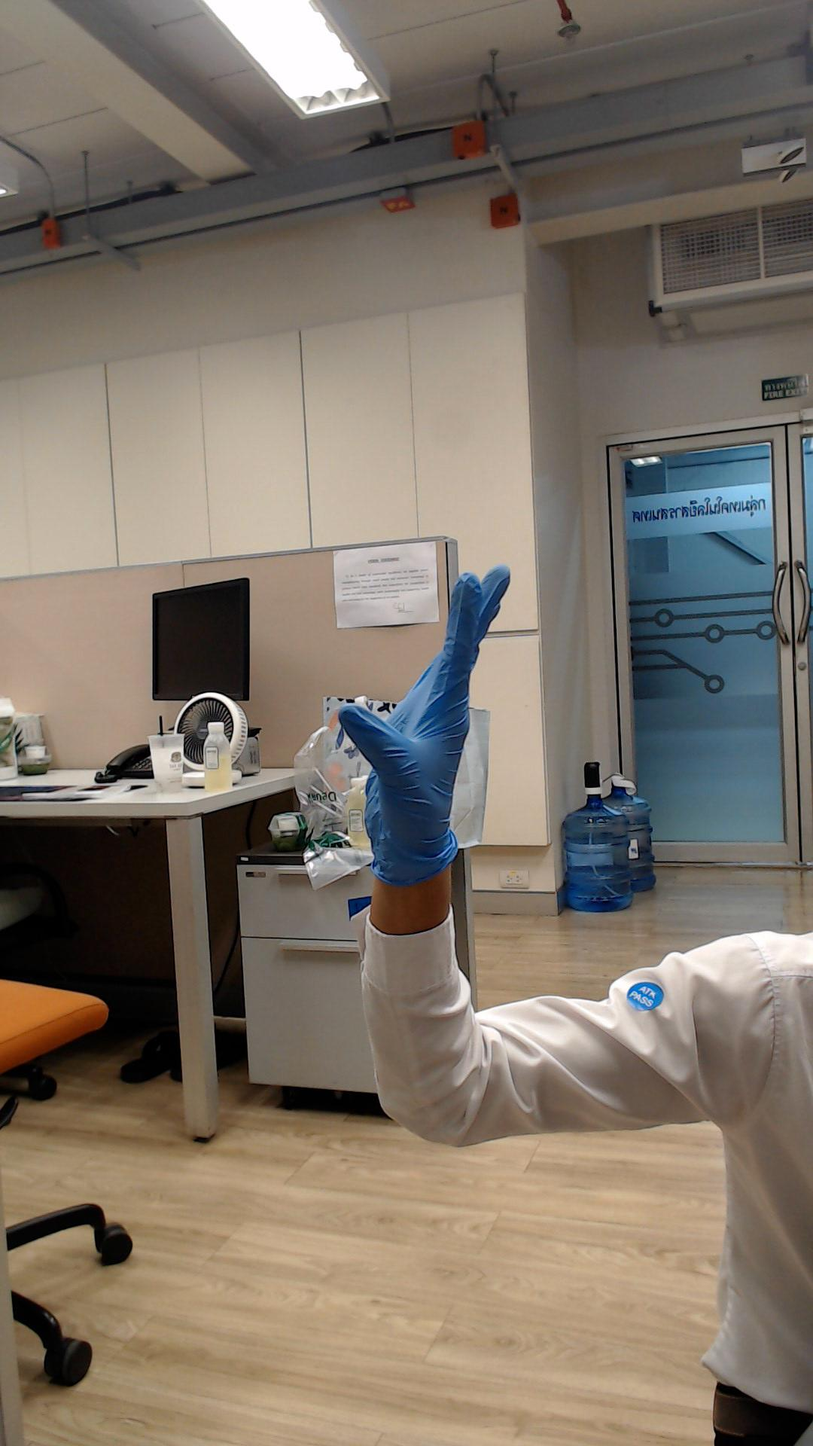gloves: (322, 553, 520, 810)
